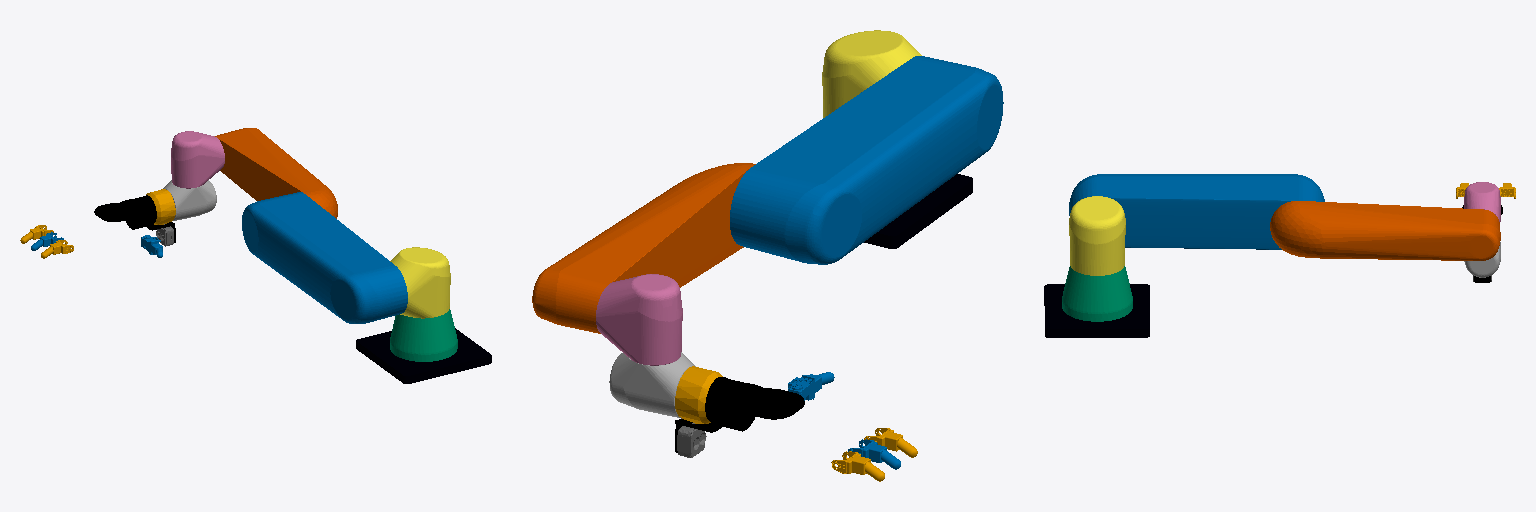
--- What the picture shows (computed from the rendered views, not written in the file) ---
The picture shows the robot from 3 angles, left to right: view 1: azimuth 30°, elevation 25°; view 2: azimuth 150°, elevation 25°; view 3: azimuth 270°, elevation 25°; orthographic projection.
Robot: ur5e_leap_right — 40 links, 39 joints (22 revolute, 17 fixed); root link base; default pose: all joints at 0.
Visible links, largest first — view 1: ur5e_link_2, ur5e_link_3, ur5e_link_1, base, ur5e_link_0, ur5e_link_4, wrist_mount_link, ur5e_link_5, ur5e_link_6; view 2: ur5e_link_2, ur5e_link_3, ur5e_link_4, ur5e_link_1, wrist_mount_link, ur5e_link_5, base, ur5e_link_6, ring_link_3, thumb_link_3, gemini_305_link, index_link_3 (+1 smaller); view 3: ur5e_link_2, ur5e_link_3, ur5e_link_1, base, ur5e_link_0, ur5e_link_4, ur5e_link_5.
Boxes of the visible links, x1=… form: ur5e_link_2: x1=242, y1=192, x2=407, y2=323; ur5e_link_3: x1=215, y1=128, x2=337, y2=218; ur5e_link_1: x1=390, y1=247, x2=450, y2=318; base: x1=356, y1=328, x2=491, y2=383; ur5e_link_0: x1=390, y1=309, x2=457, y2=361; ur5e_link_4: x1=171, y1=131, x2=224, y2=188; wrist_mount_link: x1=94, y1=195, x2=156, y2=228; ur5e_link_5: x1=163, y1=180, x2=216, y2=220; ur5e_link_6: x1=146, y1=189, x2=175, y2=224; ur5e_link_2: x1=730, y1=56, x2=1003, y2=264; ur5e_link_3: x1=532, y1=163, x2=755, y2=333; ur5e_link_4: x1=596, y1=274, x2=682, y2=365; ur5e_link_1: x1=822, y1=30, x2=921, y2=117; wrist_mount_link: x1=705, y1=377, x2=804, y2=429; ur5e_link_5: x1=609, y1=352, x2=695, y2=418; base: x1=864, y1=174, x2=972, y2=248; ur5e_link_6: x1=675, y1=366, x2=722, y2=423; ring_link_3: x1=831, y1=451, x2=884, y2=481; thumb_link_3: x1=788, y1=372, x2=834, y2=400; gemini_305_link: x1=677, y1=423, x2=706, y2=457; index_link_3: x1=864, y1=428, x2=917, y2=457; ur5e_link_2: x1=1069, y1=174, x2=1324, y2=249; ur5e_link_3: x1=1270, y1=201, x2=1500, y2=260; ur5e_link_1: x1=1069, y1=196, x2=1125, y2=275; base: x1=1044, y1=284, x2=1149, y2=337; ur5e_link_0: x1=1062, y1=266, x2=1132, y2=321; ur5e_link_4: x1=1464, y1=182, x2=1500, y2=221; ur5e_link_5: x1=1464, y1=242, x2=1500, y2=277.
Bounding box of the posed robot: 0.6458 × 0.9997 × 0.2628 m (x, y, z).
Meshes: 20 distinct files referenced, 19 mesh visuals loaded (1 binary STL, 13 OBJ); not drawn: 13 (reference not matched to a file when rendering).

The robot description file, URDF, robot "ur5e_leap_right":
<?xml version='1.0' encoding='utf-8'?>
<robot name="ur5e_leap_right">
  <!-- Mounting base: 90° yaw so robot faces -X (toward table) at identity quaternion -->
  <material name="dark_blue">
    <color rgba="0.005 0.005 0.04 1.0" />
  </material>
  <link name="base">
    <inertial>
      <mass value="0.001" />
      <inertia ixx="1e-9" ixy="0" ixz="0" iyy="1e-9" iyz="0" izz="1e-9" />
    </inertial>
    <visual>
      <origin xyz="0 0 -0.01" rpy="0 0 0" />
      <geometry>
        <mesh filename="meshes/base_plate.obj" />
      </geometry>
      <material name="dark_blue" />
    </visual>
  </link>
  <joint name="base_yaw_joint" type="fixed">
    <parent link="base" />
    <child link="ur5e_base_link" />
    <origin rpy="0 0 1.5708" xyz="0 0 0" />
  </joint>
  <link name="ur5e_base_link">
    <inertial>
      <mass value="0.001" />
      <inertia ixx="1e-9" ixy="0" ixz="0" iyy="1e-9" iyz="0" izz="1e-9" />
    </inertial>
  </link>
  <link name="ur5e_link_0">
    <visual>
      <origin rpy="0 0 3.14159265359" xyz="0 0 0" />
      <geometry>
        <mesh filename="ur5e/meshes/visual/base.obj" />
      </geometry>
    </visual>
    <inertial>
      <mass value="4.0" />
      <origin rpy="0 0 0" xyz="0 0 0" />
      <inertia ixx="0.00443333156" ixy="0.0" ixz="0.0" iyy="0.00443333156" iyz="0.0" izz="0.0072" />
    </inertial>
  </link>
  <link name="ur5e_link_1">
    <visual>
      <origin rpy="0 0 3.14159265359" xyz="0 0 0" />
      <geometry>
        <mesh filename="ur5e/meshes/visual/shoulder.obj" />
      </geometry>
    </visual>
    <!-- <collision>
      <origin xyz="0 0 -0.05" rpy="0 0 0" />
      <geometry>
        <cylinder radius="0.06" length="0.12" />
      </geometry>
    </collision> -->
    <inertial>
      <mass value="3.7" />
      <origin rpy="0 0 0" xyz="0 0 0" />
      <inertia ixx="0.010267495893" ixy="0.0" ixz="0.0" iyy="0.010267495893" iyz="0.0" izz="0.00666" />
    </inertial>
  </link>
  <link name="ur5e_link_2">
    <visual>
      <origin rpy="1.57079632679 0 -1.57079632679" xyz="0 0 0.138" />
      <geometry>
        <mesh filename="ur5e/meshes/visual/upperarm.obj" />
      </geometry>
    </visual>
    <collision>
      <origin xyz="-0.212 0 0.135" rpy="0 1.5708 0" />
      <geometry>
        <cylinder radius="0.055" length="0.45" />
      </geometry>
    </collision>
    <inertial>
      <mass value="8.393" />
      <origin rpy="0 1.57079632679 0" xyz="-0.2125 0.0 0.138" />
      <inertia ixx="0.133885781862" ixy="0.0" ixz="0.0" iyy="0.133885781862" iyz="0.0" izz="0.0151074" />
    </inertial>
  </link>
  <link name="ur5e_link_3">
    <visual>
      <origin rpy="1.57079632679 0 -1.57079632679" xyz="0 0 0.007" />
      <geometry>
        <mesh filename="ur5e/meshes/visual/forearm.obj" />
      </geometry>
    </visual>
    <collision>
      <origin xyz="-0.186 0 0.006" rpy="0 1.5708 0" />
      <geometry>
        <cylinder radius="0.045" length="0.39" />
      </geometry>
    </collision>
    <inertial>
      <mass value="2.275" />
      <origin rpy="0 1.57079632679 0" xyz="-0.1961 0.0 0.007" />
      <inertia ixx="0.0312093550996" ixy="0.0" ixz="0.0" iyy="0.0312093550996" iyz="0.0" izz="0.004095" />
    </inertial>
  </link>
  <link name="ur5e_link_4">
    <visual>
      <origin rpy="1.57079632679 0 0" xyz="0 0 -0.127" />
      <geometry>
        <mesh filename="ur5e/meshes/visual/wrist1.obj" />
      </geometry>
    </visual>
    <collision>
      <origin xyz="0 0 -0.048" rpy="0 0 0" />
      <geometry>
        <cylinder radius="0.04" length="0.08" />
      </geometry>
    </collision>
    <inertial>
      <mass value="1.219" />
      <origin rpy="0 0 0" xyz="0 0 0" />
      <inertia ixx="0.00255989897604" ixy="0.0" ixz="0.0" iyy="0.00255989897604" iyz="0.0" izz="0.0021942" />
    </inertial>
  </link>
  <link name="ur5e_link_5">
    <visual>
      <origin rpy="0 0 0" xyz="0 0 -0.0997" />
      <geometry>
        <mesh filename="ur5e/meshes/visual/wrist2.obj" />
      </geometry>
    </visual>
    <collision>
      <origin xyz="0 0 -0.044" rpy="0 0 0" />
      <geometry>
        <cylinder radius="0.04" length="0.07" />
      </geometry>
    </collision>
    <inertial>
      <mass value="1.219" />
      <origin rpy="0 0 0" xyz="0 0 0" />
      <inertia ixx="0.00255989897604" ixy="0.0" ixz="0.0" iyy="0.00255989897604" iyz="0.0" izz="0.0021942" />
    </inertial>
  </link>
  <link name="ur5e_link_6">
    <visual>
      <origin rpy="1.57079632679 0 0" xyz="0 0 -0.0989" />
      <geometry>
        <mesh filename="ur5e/meshes/visual/wrist3.obj" />
      </geometry>
    </visual>
    <collision>
      <origin xyz="0 0 -0.023" rpy="0 0 0" />
      <geometry>
        <cylinder radius="0.035" length="0.04" />
      </geometry>
    </collision>
    <inertial>
      <mass value="0.1879" />
      <origin rpy="0 0 0" xyz="0.0 0.0 -0.0229" />
      <inertia ixx="9.89041005217e-05" ixy="0.0" ixz="0.0" iyy="9.89041005217e-05" iyz="0.0" izz="0.0001321171875" />
    </inertial>
  </link>
  <joint name="ur5e_base_inertia_joint" type="fixed">
    <parent link="ur5e_base_link" />
    <child link="ur5e_link_0" />
    <origin rpy="0 0 3.14159265359" xyz="0 0 0" />
  </joint>
  <joint name="ur5e_joint_1" type="revolute">
    <parent link="ur5e_link_0" />
    <child link="ur5e_link_1" />
    <origin rpy="0 0 0" xyz="0 0 0.1625" />
    <axis xyz="0 0 1" />
    <limit effort="150.0" lower="-6.28318530718" upper="6.28318530718" velocity="3.14159" />
    <dynamics damping="60.0" friction="1.0" />
  </joint>
  <joint name="ur5e_joint_2" type="revolute">
    <parent link="ur5e_link_1" />
    <child link="ur5e_link_2" />
    <origin rpy="1.570796327 0 0" xyz="0 0 0" />
    <axis xyz="0 0 1" />
    <limit effort="150.0" lower="-6.28318530718" upper="6.28318530718" velocity="3.14159" />
    <dynamics damping="60.0" friction="1.0" />
  </joint>
  <joint name="ur5e_joint_3" type="revolute">
    <parent link="ur5e_link_2" />
    <child link="ur5e_link_3" />
    <origin rpy="0 0 0" xyz="-0.425 0 0" />
    <axis xyz="0 0 1" />
    <limit effort="150.0" lower="-3.14159265359" upper="3.14159265359" velocity="3.14159" />
    <dynamics damping="35.0" friction="1.0" />
  </joint>
  <joint name="ur5e_joint_4" type="revolute">
    <parent link="ur5e_link_3" />
    <child link="ur5e_link_4" />
    <origin rpy="0 0 0" xyz="-0.3922 0 0.1333" />
    <axis xyz="0 0 1" />
    <limit effort="28.0" lower="-6.28318530718" upper="6.28318530718" velocity="3.14159" />
    <dynamics damping="20.0" friction="0.5" />
  </joint>
  <joint name="ur5e_joint_5" type="revolute">
    <parent link="ur5e_link_4" />
    <child link="ur5e_link_5" />
    <origin rpy="1.570796327 0 0" xyz="0 -0.0997 -2.0448811823e-11" />
    <axis xyz="0 0 1" />
    <limit effort="28.0" lower="-6.28318530718" upper="6.28318530718" velocity="3.14159" />
    <dynamics damping="20.0" friction="0.5" />
  </joint>
  <joint name="ur5e_joint_6" type="revolute">
    <parent link="ur5e_link_5" />
    <child link="ur5e_link_6" />
    <origin rpy="1.57079632659 3.14159265359 3.14159265359" xyz="0 0.0996 -2.04283014801e-11" />
    <axis xyz="0 0 1" />
    <limit effort="28.0" lower="-6.28318530718" upper="6.28318530718" velocity="3.14159" />
    <dynamics damping="15.0" friction="0.5" />
  </joint>
  <link name="ur5e_base_fixed_link">
    <inertial>
      <mass value="0.001" />
      <inertia ixx="1e-9" ixy="0" ixz="0" iyy="1e-9" iyz="0" izz="1e-9" />
    </inertial>
  </link>
  <joint name="ur5e_base_fixed_joint" type="fixed">
    <origin rpy="0 0 3.14159265359" xyz="0 0 0" />
    <parent link="ur5e_base_link" />
    <child link="ur5e_base_fixed_link" />
  </joint>
  <link name="ee_link">
    <inertial>
      <mass value="0.001" />
      <inertia ixx="1e-9" ixy="0" ixz="0" iyy="1e-9" iyz="0" izz="1e-9" />
    </inertial>
  </link>
  <joint name="ur5e_flange_joint" type="fixed">
    <parent link="ur5e_link_6" />
    <child link="ee_link" />
    <origin rpy="0 -1.57079632679 -1.57079632679" xyz="0 0 0" />
  </joint>
  <joint name="hand_base_joint" type="fixed">
    <parent link="ee_link" />
    <child link="palm_link" />
    <origin xyz="0.15 0.03 0.0005" rpy="0 0 0" />
  </joint>
  <link name="palm_link">
    <visual>
      <origin xyz="-0.0200 0.02575 -0.0347" rpy="0 0 0" />
      <geometry>
        <mesh filename="leap/meshes/visual/palm_lower.obj" />
      </geometry>
    </visual>
    <collision>
      <origin xyz="-0.009 0.008 -0.011" rpy="0 0 0" />
      <geometry>
        <box size="0.022 0.026 0.034" />
      </geometry>
    </collision>
    <collision>
      <origin xyz="-0.009 -0.037 -0.011" rpy="0 0 0" />
      <geometry>
        <box size="0.022 0.026 0.034" />
      </geometry>
    </collision>
    <collision>
      <origin xyz="-0.009 -0.082 -0.011" rpy="0 0 0" />
      <geometry>
        <box size="0.022 0.026 0.034" />
      </geometry>
    </collision>
    <collision>
      <origin xyz="-0.048 -0.033 -0.0115" rpy="0 0 0" />
      <geometry>
        <box size="0.024 0.116 0.046" />
      </geometry>
    </collision>
    <collision>
      <origin xyz="-0.0385 -0.035 -0.017" rpy="0 -0.75 0" />
      <geometry>
        <box size="0.02 0.12 0.03" />
      </geometry>
    </collision>
    <collision>
      <origin xyz="-0.078 -0.053 -0.0115" rpy="0 0 0" />
      <geometry>
        <box size="0.044 0.052 0.046" />
      </geometry>
    </collision>
    <inertial>
      <origin xyz="0 0 0" rpy="0 0 0" />
      <mass value="0.237" />
      <inertia ixx="0.000354094" ixy="-0.000001193" ixz="-0.000002445" iyy="0.000260915" iyz="-0.000002905" izz="0.000529257" />
    </inertial>
  </link>
  <!-- Virtual frame for palm pose tracking (adjust xyz/rpy to match Kuka+Allegro convention) -->
  <link name="palm_frame">
    <inertial>
      <mass value="0.001"/>
      <inertia ixx="1e-9" ixy="0" ixz="0" iyy="1e-9" iyz="0" izz="1e-9"/>
    </inertial>
  </link>
  <joint name="palm_frame_joint" type="fixed">
    <parent link="palm_link"/>
    <child link="palm_frame"/>
    <origin xyz="-0.04 -0.038 -0.035" rpy="3.14159 0 0"/>
  </joint>
  <link name="index_link_0">
    <visual>
      <origin xyz="0.0084 0.0077 0.01465" rpy="0 0 0" />
      <geometry>
        <mesh filename="leap/meshes/visual/mcp_joint.obj" />
      </geometry>
    </visual>
    <inertial>
      <origin xyz="0 0 0" rpy="0 0 0" />
      <mass value="0.1" />
      <inertia ixx="0.000026134" ixy="0.000006930" ixz="0.000000275" iyy="0.000017718" iyz="0.000000255" izz="0.000033543" />
    </inertial>
  </link>
  <link name="index_link_1">
    <visual>
      <origin xyz="0.0096 0.0002 0.0007" rpy="-1.57079 -1.57079 0" />
      <geometry>
        <mesh filename="leap/meshes/visual/pip.obj" />
      </geometry>
    </visual>
    <collision>
      <origin xyz="0.0075 -0.0002 -0.011" rpy="0 0 0" />
      <geometry>
        <box size="0.034 0.026 0.022" />
      </geometry>
    </collision>
    <inertial>
      <origin xyz="0 0 0" rpy="0 0 0" />
      <mass value="0.1" />
      <inertia ixx="0.000014994" ixy="0.000000038" ixz="0.000000013" iyy="0.000008944" iyz="0.000000034" izz="0.000013231" />
    </inertial>
  </link>
  <link name="index_link_2">
    <visual>
      <origin xyz="0.0211 -0.0084 0.0097" rpy="-3.1415926 0 0" />
      <geometry>
        <mesh filename="leap/meshes/visual/dip.obj" />
      </geometry>
    </visual>
    <collision>
      <origin xyz="0.0075 -0.030 0.015" rpy="0 0 0" />
      <geometry>
        <box size="0.034 0.032 0.026" />
      </geometry>
    </collision>
    <inertial>
      <origin xyz="0 0 0" rpy="0 0 0" />
      <mass value="0.1" />
      <inertia ixx="0.000014978" ixy="-0.000001641" ixz="-0.000000046" iyy="0.000015478" iyz="-0.000000062" izz="0.000018059" />
    </inertial>
  </link>
  <link name="index_link_3">
    <visual>
      <origin xyz="0.0132 -0.0061 0.0144" rpy="3.1415926 0 0" />
      <geometry>
        <mesh filename="leap/meshes/visual/fingertip_connector.obj" />
      </geometry>
    </visual>
    <visual>
      <origin xyz="-0.0095 -0.017 -0.002" rpy="-1.5708 0 0" />
      <geometry>
        <mesh filename="finger_tip.stl" />
      </geometry>
    </visual>
    <collision>
      <origin xyz="0 -0.018 0.0145" rpy="0 0 0" />
      <geometry>
        <box size="0.019 0.008 0.033" />
      </geometry>
    </collision>
    <collision>
      <origin xyz="0 -0.031 0.0145" rpy="0 0 0" />
      <geometry>
        <box size="0.019 0.018 0.019" />
      </geometry>
    </collision>
    <collision>
      <origin xyz="-0.00445 -0.050 0.0145" rpy="1.5708 0 -0.46" />
      <geometry>
        <cylinder radius="0.0075" length="0.024" />
      </geometry>
    </collision>
    <inertial>
      <origin xyz="0 0 0" rpy="0 0 0" />
      <mass value="0.06" />
      <inertia ixx="0.000012630" ixy="0.000000431" ixz="0" iyy="0.000005835" iyz="0" izz="0.000010736" />
    </inertial>
  </link>
  <joint name="index_joint_0" type="revolute">
    <origin xyz="-0.0122 0.03810 0.01450" rpy="-1.57079 0 1.57079" />
    <parent link="index_link_0" />
    <child link="index_link_1" />
    <axis xyz="0 0 -1" />
    <limit effort="0.5" velocity="8.48" lower="-1.047" upper="1.047" />
    <dynamics damping="0.1" friction="0.01" />
  </joint>
  <joint name="index_joint_1" type="revolute">
    <origin xyz="-0.0070 0.0230 -0.0187" rpy="1.57079 1.57079 0" />
    <parent link="palm_link" />
    <child link="index_link_0" />
    <axis xyz="0 0 -1" />
    <limit effort="0.5" velocity="8.48" lower="-0.314" upper="2.23" />
    <dynamics damping="0.1" friction="0.01" />
  </joint>
  <joint name="index_joint_2" type="revolute">
    <origin xyz="0.015 0.0143 -0.013" rpy="1.57079 -1.57079 0" />
    <parent link="index_link_1" />
    <child link="index_link_2" />
    <axis xyz="0 0 -1" />
    <limit effort="0.5" velocity="8.48" lower="-0.506" upper="1.885" />
    <dynamics damping="0.1" friction="0.01" />
  </joint>
  <joint name="index_joint_3" type="revolute">
    <origin xyz="0 -0.0361 0.0002" rpy="0 0 0" />
    <parent link="index_link_2" />
    <child link="index_link_3" />
    <axis xyz="0 0 -1" />
    <limit effort="0.5" velocity="8.48" lower="-0.366" upper="2.042" />
    <dynamics damping="0.1" friction="0.01" />
  </joint>
  <link name="middle_link_0">
    <visual>
      <origin xyz="0.0084 0.0077 0.01465" rpy="0 0 0" />
      <geometry>
        <mesh filename="leap/meshes/visual/mcp_joint.obj" />
      </geometry>
    </visual>
    <inertial>
      <origin xyz="0 0 0" rpy="0 0 0" />
      <mass value="0.1" />
      <inertia ixx="0.000026134" ixy="0.000006930" ixz="0.000000275" iyy="0.000017718" iyz="0.000000255" izz="0.000033543" />
    </inertial>
  </link>
  <link name="middle_link_1">
    <visual>
      <origin xyz="0.0096 0.0003 0.0007" rpy="-1.57079 -1.57079 0" />
      <geometry>
        <mesh filename="leap/meshes/visual/pip.obj" />
      </geometry>
    </visual>
    <collision>
      <origin xyz="0.0075 -0.0002 -0.011" rpy="0 0 0" />
      <geometry>
        <box size="0.034 0.026 0.022" />
      </geometry>
    </collision>
    <inertial>
      <origin xyz="0 0 0" rpy="0 0 0" />
      <mass value="0.1" />
      <inertia ixx="0.000014994" ixy="0.000000038" ixz="0.000000013" iyy="0.000008944" iyz="0.000000034" izz="0.000013231" />
    </inertial>
  </link>
  <link name="middle_link_2">
    <visual>
      <origin xyz="0.0211 -0.0084 0.0097" rpy="-3.14159 0 0" />
      <geometry>
        <mesh filename="leap/meshes/visual/dip.obj" />
      </geometry>
    </visual>
    <collision>
      <origin xyz="0.0075 -0.030 0.015" rpy="0 0 0" />
      <geometry>
        <box size="0.034 0.032 0.026" />
      </geometry>
    </collision>
    <inertial>
      <origin xyz="0 0 0" rpy="0 0 0" />
      <mass value="0.1" />
      <inertia ixx="0.000014978" ixy="-0.000001641" ixz="-0.000000046" iyy="0.000015478" iyz="-0.000000062" izz="0.000018059" />
    </inertial>
  </link>
  <link name="middle_link_3">
    <visual>
      <origin xyz="0.0132 -0.0061 0.01450" rpy="3.14159 0 0" />
      <geometry>
        <mesh filename="leap/meshes/visual/fingertip_connector.obj" />
      </geometry>
    </visual>
    <visual>
      <origin xyz="-0.0095 -0.017 -0.002" rpy="-1.5708 0 0" />
      <geometry>
        <mesh filename="finger_tip.stl" />
      </geometry>
    </visual>
    <collision>
      <origin xyz="0 -0.018 0.0145" rpy="0 0 0" />
      <geometry>
        <box size="0.019 0.008 0.033" />
      </geometry>
    </collision>
    <collision>
      <origin xyz="0 -0.031 0.0145" rpy="0 0 0" />
      <geometry>
        <box size="0.019 0.018 0.019" />
      </geometry>
    </collision>
    <collision>
      <origin xyz="-0.00445 -0.050 0.0145" rpy="1.5708 0 -0.46" />
      <geometry>
        <cylinder radius="0.0075" length="0.024" />
      </geometry>
    </collision>
    <inertial>
      <origin xyz="0 0 0" rpy="0 0 0" />
      <mass value="0.06" />
      <inertia ixx="0.000012630" ixy="0.000000431" ixz="0" iyy="0.000005835" iyz="0" izz="0.000010736" />
    </inertial>
  </link>
  <joint name="middle_joint_0" type="revolute">
    <origin xyz="-0.0122 0.0381 0.0145" rpy="-1.57079 0 1.57079" />
    <parent link="middle_link_0" />
    <child link="middle_link_1" />
    <axis xyz="0 0 -1" />
    <limit effort="0.5" velocity="8.48" lower="-1.047" upper="1.047" />
    <dynamics damping="0.1" friction="0.01" />
  </joint>
  <joint name="middle_joint_1" type="revolute">
    <origin xyz="-0.0071 -0.0224 -0.0187" rpy="1.57079 1.57079 0" />
    <parent link="palm_link" />
    <child link="middle_link_0" />
    <axis xyz="0 0 -1" />
    <limit effort="0.5" velocity="8.48" lower="-0.314" upper="2.23" />
    <dynamics damping="0.1" friction="0.01" />
  </joint>
  <joint name="middle_joint_2" type="revolute">
    <origin xyz="0.015 0.0143 -0.013" rpy="1.57079 -1.57079 0" />
    <parent link="middle_link_1" />
    <child link="middle_link_2" />
    <axis xyz="0 0 -1" />
    <limit effort="0.5" velocity="8.48" lower="-0.506" upper="1.885" />
    <dynamics damping="0.1" friction="0.01" />
  </joint>
  <joint name="middle_joint_3" type="revolute">
    <origin xyz="0 -0.0361 0.0002" rpy="0 0 0" />
    <parent link="middle_link_2" />
    <child link="middle_link_3" />
    <axis xyz="0 0 -1" />
    <limit effort="0.5" velocity="8.48" lower="-0.366" upper="2.042" />
    <dynamics damping="0.1" friction="0.01" />
  </joint>
  <link name="ring_link_0">
    <visual>
      <origin xyz="0.0084 0.0077 0.01465" rpy="0 0 0" />
      <geometry>
        <mesh filename="leap/meshes/visual/mcp_joint.obj" />
      </geometry>
    </visual>
    <inertial>
      <origin xyz="0 0 0" rpy="0 0 0" />
      <mass value="0.1" />
      <inertia ixx="0.000026134" ixy="0.000006930" ixz="0.000000275" iyy="0.000017718" iyz="0.000000255" izz="0.000033543" />
    </inertial>
  </link>
  <link name="ring_link_1">
    <visual>
      <origin xyz="0.0096 0.0003 0.0007" rpy="-1.57079 -1.57079 0" />
      <geometry>
        <mesh filename="leap/meshes/visual/pip.obj" />
      </geometry>
    </visual>
    <collision>
      <origin xyz="0.0075 -0.0002 -0.011" rpy="0 0 0" />
      <geometry>
        <box size="0.034 0.026 0.022" />
      </geometry>
    </collision>
    <inertial>
      <origin xyz="0 0 0" rpy="0 0 0" />
      <mass value="0.1" />
      <inertia ixx="0.000014994" ixy="0.000000038" ixz="0.000000013" iyy="0.000008944" iyz="0.000000034" izz="0.000013231" />
    </inertial>
  </link>
  <link name="ring_link_2">
    <visual>
      <origin xyz="0.0211 -0.0084 0.0097" rpy="-3.14159 0 0" />
      <geometry>
        <mesh filename="leap/meshes/visual/dip.obj" />
      </geometry>
    </visual>
    <collision>
      <origin xyz="0.0075 -0.030 0.015" rpy="0 0 0" />
      <geometry>
        <box size="0.034 0.032 0.026" />
      </geometry>
    </collision>
    <inertial>
      <origin xyz="0 0 0" rpy="0 0 0" />
      <mass value="0.1" />
      <inertia ixx="0.000014978" ixy="-0.000001641" ixz="-0.000000046" iyy="0.000015478" iyz="-0.000000062" izz="0.000018059" />
    </inertial>
  </link>
  <link name="ring_link_3">
    <visual>
      <origin xyz="0.0132 -0.0061 0.0145" rpy="3.14159 0 0" />
      <geometry>
        <mesh filename="leap/meshes/visual/fingertip_connector.obj" />
      </geometry>
    </visual>
    <visual>
      <origin xyz="-0.0095 -0.017 -0.002" rpy="-1.5708 0 0" />
      <geometry>
        <mesh filename="finger_tip.stl" />
      </geometry>
    </visual>
    <collision>
      <origin xyz="0 -0.018 0.0145" rpy="0 0 0" />
      <geometry>
        <box size="0.019 0.008 0.033" />
      </geometry>
    </collision>
    <collision>
      <origin xyz="0 -0.031 0.0145" rpy="0 0 0" />
      <geometry>
        <box size="0.019 0.018 0.019" />
      </geometry>
    </collision>
    <collision>
      <origin xyz="-0.00445 -0.050 0.0145" rpy="1.5708 0 -0.46" />
      <geometry>
        <cylinder radius="0.0075" length="0.024" />
      </geometry>
    </collision>
    <inertial>
      <origin xyz="0 0 0" rpy="0 0 0" />
      <mass value="0.06" />
      <inertia ixx="0.000012630" ixy="0.000000431" ixz="0" iyy="0.000005835" iyz="0" izz="0.000010736" />
    </inertial>
  </link>
  <joint name="ring_joint_0" type="revolute">
    <origin xyz="-0.0122 0.0381 0.0145" rpy="-1.57079 0 1.57079" />
    <parent link="ring_link_0" />
    <child link="ring_link_1" />
    <axis xyz="0 0 -1" />
    <limit effort="0.5" velocity="8.48" lower="-1.047" upper="1.047" />
    <dynamics damping="0.1" friction="0.01" />
  </joint>
  <joint name="ring_joint_1" type="revolute">
    <origin xyz="-0.00709 -0.0678 -0.0187" rpy="1.57079 1.57079 0" />
    <parent link="palm_link" />
    <child link="ring_link_0" />
    <axis xyz="0 0 -1" />
    <limit effort="0.5" velocity="8.48" lower="-0.314" upper="2.23" />
    <dynamics damping="0.1" friction="0.01" />
  </joint>
  <joint name="ring_joint_2" type="revolute">
    <origin xyz="0.015 0.0143 -0.013" rpy="1.57079 -1.57079 0" />
    <parent link="ring_link_1" />
    <child link="ring_link_2" />
    <axis xyz="0 0 -1" />
    <limit effort="0.5" velocity="8.48" lower="-0.506" upper="1.885" />
    <dynamics damping="0.1" friction="0.01" />
  </joint>
  <joint name="ring_joint_3" type="revolute">
    <origin xyz="0 -0.03609 0.0002" rpy="0 0 0" />
    <parent link="ring_link_2" />
    <child link="ring_link_3" />
    <axis xyz="0 0 -1" />
    <limit effort="0.5" velocity="8.48" lower="-0.366" upper="2.042" />
    <dynamics damping="0.1" friction="0.01" />
  </joint>
  <link name="thumb_link_0">
    <visual>
      <origin xyz="-0.0053 0.0003 0.00078" rpy="-1.57079 -1.57079 0" />
      <geometry>
        <mesh filename="leap/meshes/visual/pip.obj" />
      </geometry>
    </visual>
    <inertial>
      <origin xyz="0 0 0" rpy="0 0 0" />
      <mass value="0.1" />
      <inertia ixx="0.000014994" ixy="0.000000038" ixz="0.000000013" iyy="0.000008944" iyz="0.000000034" izz="0.000013231" />
    </inertial>
  </link>
  <link name="thumb_link_1">
    <visual>
      <origin xyz="0.01196 0 -0.0158" rpy="1.57079 0 0" />
      <geometry>
        <mesh filename="leap/meshes/visual/thumb_pip.obj" />
      </geometry>
    </visual>
    <inertial>
      <origin xyz="0 0 0" rpy="0 0 0" />
      <mass value="0.1" />
      <inertia ixx="0.000019767" ixy="0" ixz="0" iyy="0.000018300" iyz="0" izz="0.000007467" />
    </inertial>
  </link>
  <link name="thumb_link_2">
    <visual>
      <origin xyz="0.0439 0.0579 -0.0086" rpy="0 0 0" />
      <geometry>
        <mesh filename="leap/meshes/visual/thumb_dip.obj" />
      </geometry>
    </visual>
    <collision>
      <origin xyz="0 0.0105 -0.014" rpy="0 0 0" />
      <geometry>
        <box size="0.02 0.04 0.024" />
      </geometry>
    </collision>
    <inertial>
      <origin xyz="0 0 0" rpy="0 0 0" />
      <mass value="0.1" />
      <inertia ixx="0.000022300" ixy="0.000000634" ixz="0.000000068" iyy="0.000010108" iyz="0.000000066" izz="0.000020208" />
    </inertial>
  </link>
  <link name="thumb_link_3">
    <visual>
      <origin xyz="0.0625 0.0784 0.0489" rpy="0 0 0" />
      <geometry>
        <mesh filename="leap/meshes/visual/thumb_fingertip_connector.obj" />
      </geometry>
    </visual>
    <visual>
      <origin xyz="-0.0095 -0.0295 -0.0305" rpy="-1.5708 0 0" />
      <geometry>
        <mesh filename="finger_tip.stl" />
      </geometry>
    </visual>
    <collision>
      <origin xyz="0 -0.0305 -0.014" rpy="0 0 0" />
      <geometry>
        <box size="0.019 0.008 0.033" />
      </geometry>
    </collision>
    <collision>
      <origin xyz="0 -0.0435 -0.014" rpy="0 0 0" />
      <geometry>
        <box size="0.019 0.018 0.019" />
      </geometry>
    </collision>
    <collision>
      <origin xyz="-0.00445 -0.0625 -0.014" rpy="1.5708 0 -0.46" />
      <geometry>
        <cylinder radius="0.0075" length="0.024" />
      </geometry>
    </collision>
    <collision>
      <origin xyz="0 -0.0085 -0.015" rpy="0 0 0" />
      <geometry>
        <box size="0.02 0.036 0.024" />
      </geometry>
    </collision>
    <inertial>
      <origin xyz="0 0 0" rpy="0 0 0" />
      <mass value="0.1" />
      <inertia ixx="0.000041576" ixy="-0.000000998" ixz="-0.000000061" iyy="0.000008849" iyz="-0.000000198" izz="0.000040500" />
    </inertial>
  </link>
  <joint name="thumb_joint_0" type="revolute">
    <origin xyz="-0.0693 -0.0012 -0.0216" rpy="0 1.57079 0" />
    <parent link="palm_link" />
    <child link="thumb_link_0" />
    <axis xyz="0 0 -1" />
    <limit effort="0.5" velocity="8.48" lower="-0.349" upper="2.094" />
    <dynamics damping="0.1" friction="0.01" />
  </joint>
  <joint name="thumb_joint_1" type="revolute">
    <origin xyz="0 0.0143 -0.013" rpy="1.57079 -1.57079 0" />
    <parent link="thumb_link_0" />
    <child link="thumb_link_1" />
    <axis xyz="0 0 -1" />
    <limit effort="0.5" velocity="8.48" lower="-0.47" upper="2.443" />
    <dynamics damping="0.1" friction="0.01" />
  </joint>
  <joint name="thumb_joint_2" type="revolute">
    <origin xyz="0 0.0145 -0.017" rpy="-1.57079 0 0" />
    <parent link="thumb_link_1" />
    <child link="thumb_link_2" />
    <axis xyz="0 0 -1" />
    <limit effort="0.5" velocity="8.48" lower="-1.20" upper="1.90" />
    <dynamics damping="0.1" friction="0.01" />
  </joint>
  <joint name="thumb_joint_3" type="revolute">
    <origin xyz="0 0.0466 0.0002" rpy="0 0 3.14159" />
    <parent link="thumb_link_2" />
    <child link="thumb_link_3" />
    <axis xyz="0 0 -1" />
    <limit effort="0.5" velocity="8.48" lower="-1.34" upper="1.88" />
    <dynamics damping="0.1" friction="0.01" />
  </joint>
  <link name="thumb_tip">
    <inertial>
      <mass value="0.001" />
      <inertia ixx="1e-9" ixy="0" ixz="0" iyy="1e-9" iyz="0" izz="1e-9" />
    </inertial>
  </link>
  <link name="index_tip">
    <inertial>
      <mass value="0.001" />
      <inertia ixx="1e-9" ixy="0" ixz="0" iyy="1e-9" iyz="0" izz="1e-9" />
    </inertial>
  </link>
  <link name="middle_tip">
    <inertial>
      <mass value="0.001" />
      <inertia ixx="1e-9" ixy="0" ixz="0" iyy="1e-9" iyz="0" izz="1e-9" />
    </inertial>
  </link>
  <link name="ring_tip">
    <inertial>
      <mass value="0.001" />
      <inertia ixx="1e-9" ixy="0" ixz="0" iyy="1e-9" iyz="0" izz="1e-9" />
    </inertial>
  </link>
  <joint name="thumb_tip_joint" type="fixed">
    <parent link="thumb_link_3" />
    <child link="thumb_tip" />
    <origin rpy="0 0 0" xyz="0 -0.06 -0.015" />
  </joint>
  <joint name="index_tip_joint" type="fixed">
    <parent link="index_link_3" />
    <child link="index_tip" />
    <origin rpy="0 0 0" xyz="0 -0.048 0.015" />
  </joint>
  <joint name="middle_tip_joint" type="fixed">
    <parent link="middle_link_3" />
    <child link="middle_tip" />
    <origin rpy="0 0 0" xyz="0 -0.048 0.015" />
  </joint>
  <joint name="ring_tip_joint" type="fixed">
    <parent link="ring_link_3" />
    <child link="ring_tip" />
    <origin rpy="0 0 0" xyz="0 -0.048 0.015" />
  </joint>
  <link name="wrist_mount_link">
    <visual>
      <origin xyz="0.0 0 0" rpy="0 0 0" />
      <geometry>
        <mesh filename="wrist_mount.obj" />
      </geometry>
      <material name="mount_black">
        <color rgba="0.0 0.0 0.0 1.0" />
      </material>
    </visual>
    <inertial>
      <mass value="0.08" />
      <origin xyz="0 0 0" rpy="0 0 0" />
      <inertia ixx="0.00002" ixy="0.0" ixz="0.0" iyy="0.00002" iyz="0.0" izz="0.00002" />
    </inertial>
  </link>
  <joint name="wrist_mount_joint" type="fixed">
    <parent link="ur5e_link_6" />
    <child link="wrist_mount_link" />
    <origin xyz="0.0 0.0005 0" rpy="1.57079632679 0 0" />
  </joint>
  <link name="camera_mount_link">
    <visual>
      <origin xyz="0 0 0" rpy="0 0 0" />
      <geometry>
        <mesh filename="camera_mount.obj" />
      </geometry>
      <material name="mount_black2">
        <color rgba="0.0 0.0 0.0 1.0" />
      </material>
    </visual>
    <inertial>
      <mass value="0.04" />
      <origin xyz="0 0 0" rpy="0 0 0" />
      <inertia ixx="0.00001" ixy="0.0" ixz="0.0" iyy="0.00001" iyz="0.0" izz="0.00001" />
    </inertial>
  </link>
  <joint name="camera_mount_joint" type="fixed">
    <parent link="wrist_mount_link" />
    <child link="camera_mount_link" />
    <origin xyz="0 0 0" rpy="0 0 0" />
  </joint>
  <link name="gemini_305_link">
    <visual>
      <origin xyz="0 0 0" rpy="3.14159 0 0" />
      <geometry>
        <mesh filename="gemini_305/meshes/gemini_305_rotated.obj" scale="0.001 0.001 0.001" />
      </geometry>
      <material name="gemini_305_gray">
        <color rgba="0.45 0.45 0.45 1" />
      </material>
    </visual>
    <collision>
      <origin xyz="0 0 0" rpy="0 0 0" />
      <geometry>
        <box size="0.042 0.042 0.025" />
      </geometry>
    </collision>
    <inertial>
      <mass value="0.065" />
      <origin xyz="0 0 0" rpy="0 0 0" />
      <inertia ixx="0.00001" ixy="0.0" ixz="0.0" iyy="0.00001" iyz="0.0" izz="0.00001" />
    </inertial>
  </link>
  <joint name="gemini_305_mount_joint" type="fixed">
    <parent link="ur5e_link_6" />
    <child link="gemini_305_link" />
    <origin xyz="0 -0.0705 -0.04" rpy="0 0 0" />
  </joint>
  <link name="gemini_305_left_camera_frame">
    <inertial>
      <mass value="0.001" />
      <inertia ixx="1e-9" ixy="0" ixz="0" iyy="1e-9" iyz="0" izz="1e-9" />
    </inertial>
  </link>
  <joint name="gemini_305_left_camera_joint" type="fixed">
    <parent link="gemini_305_link" />
    <child link="gemini_305_left_camera_frame" />
    <origin xyz="0.009 0 0.0126" rpy="0 0 0" />
  </joint>
  <link name="gemini_305_left_camera_optical_frame">
    <inertial>
      <mass value="0.001" />
      <inertia ixx="1e-9" ixy="0" ixz="0" iyy="1e-9" iyz="0" izz="1e-9" />
    </inertial>
  </link>
  <joint name="gemini_305_left_optical_joint" type="fixed">
    <parent link="gemini_305_left_camera_frame" />
    <child link="gemini_305_left_camera_optical_frame" />
    <!-- Camera looks along parent +Z; Rz(π) maps: opt +X=-parent_X (right), +Y=-parent_Y (down), +Z=+parent_Z (forward) -->
    <origin xyz="0 0 0" rpy="0 0 3.14159265" />
  </joint>
  <link name="gemini_305_right_camera_frame">
    <inertial>
      <mass value="0.001" />
      <inertia ixx="1e-9" ixy="0" ixz="0" iyy="1e-9" iyz="0" izz="1e-9" />
    </inertial>
  </link>
  <joint name="gemini_305_right_camera_joint" type="fixed">
    <parent link="gemini_305_link" />
    <child link="gemini_305_right_camera_frame" />
    <origin xyz="-0.009 0 0.0126" rpy="0 0 0" />
  </joint>
  <link name="gemini_305_right_camera_optical_frame">
    <inertial>
      <mass value="0.001" />
      <inertia ixx="1e-9" ixy="0" ixz="0" iyy="1e-9" iyz="0" izz="1e-9" />
    </inertial>
  </link>
  <joint name="gemini_305_right_optical_joint" type="fixed">
    <parent link="gemini_305_right_camera_frame" />
    <child link="gemini_305_right_camera_optical_frame" />
    <!-- Camera looks along parent +Z; Rz(π) maps: opt +X=-parent_X (right), +Y=-parent_Y (down), +Z=+parent_Z (forward) -->
    <origin xyz="0 0 0" rpy="0 0 3.14159265" />
  </joint>
</robot>
